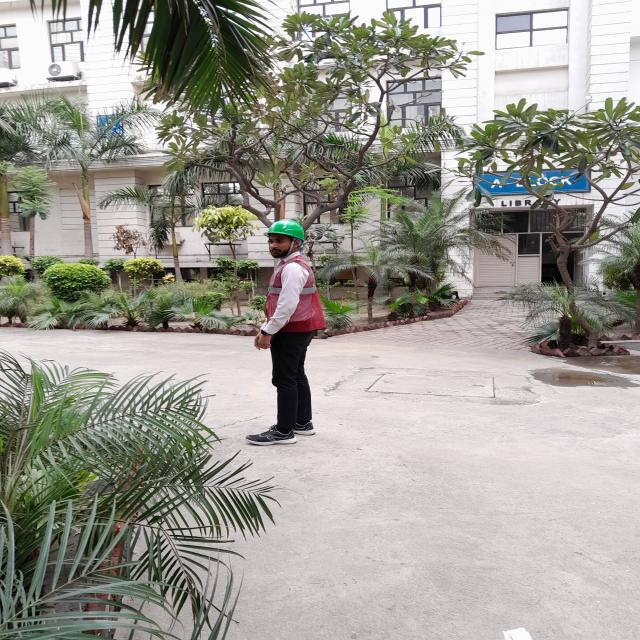safe: (246, 220, 325, 446)
